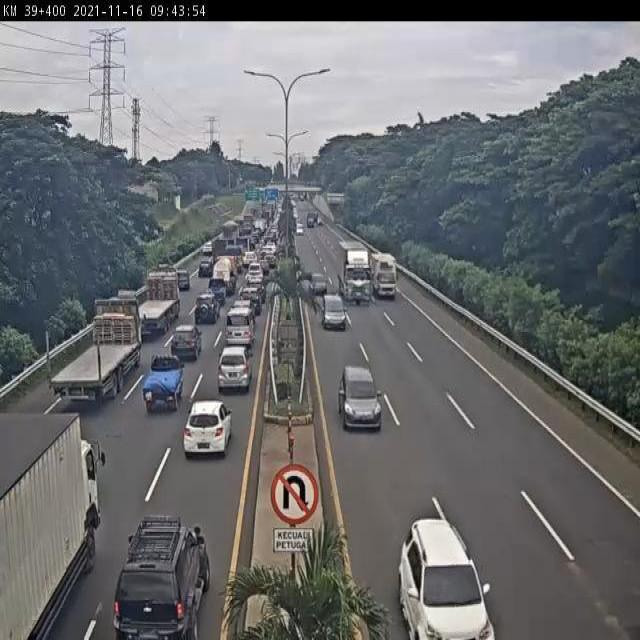car: (112, 514, 211, 638), (399, 517, 496, 640), (339, 366, 384, 434), (183, 402, 233, 462), (142, 355, 185, 413), (217, 347, 253, 397), (168, 325, 201, 368), (225, 308, 254, 349), (322, 293, 348, 332), (193, 294, 220, 329), (207, 279, 227, 305), (176, 269, 194, 296), (310, 272, 326, 295)
small truck: (371, 249, 397, 300)
truck-l-: (41, 297, 143, 411), (131, 269, 181, 347), (337, 239, 372, 304)
